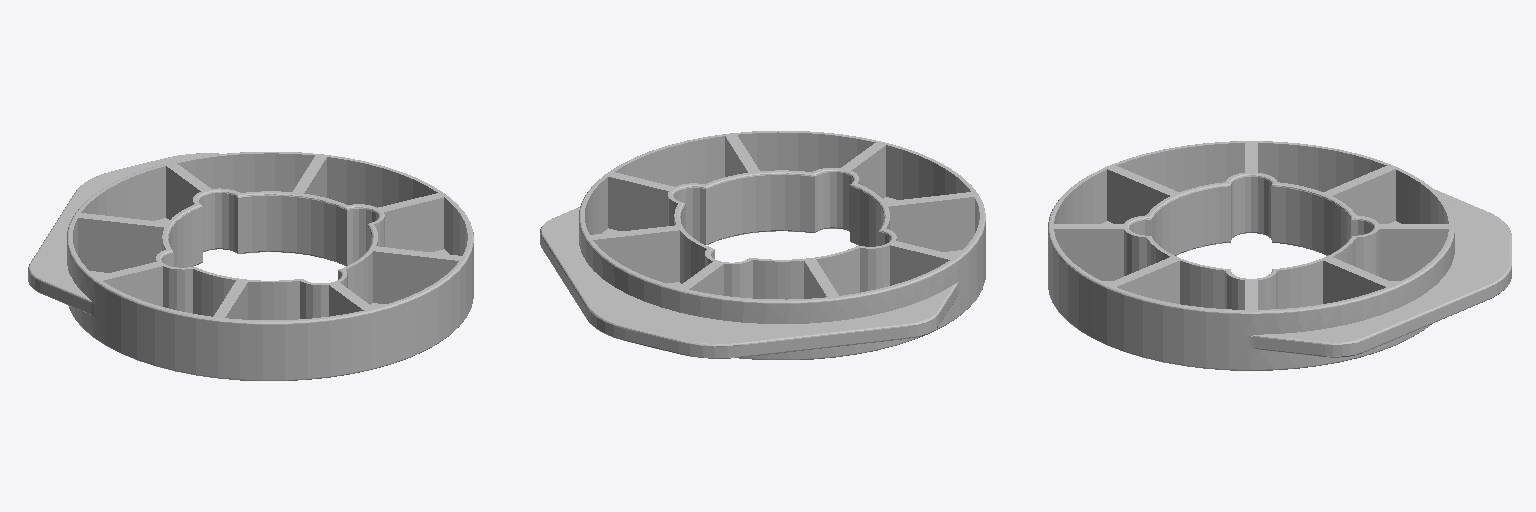
Rendered from Einzel-Scheibe.obj.
3 renders of one model, left to right at view 1: azimuth 30°, elevation 25°; view 2: azimuth 150°, elevation 25°; view 3: azimuth 270°, elevation 25°, orthographic.
Parts seen in each view (by area): view 1: Volumenkörper1; view 2: Volumenkörper1; view 3: Volumenkörper1.
Boxes of the visible parts, <box> form: Volumenkörper1: <box>28,152,473,380</box>; Volumenkörper1: <box>540,131,985,359</box>; Volumenkörper1: <box>1048,141,1511,370</box>.
Size of the model in its own units: 110 by 16 by 114.